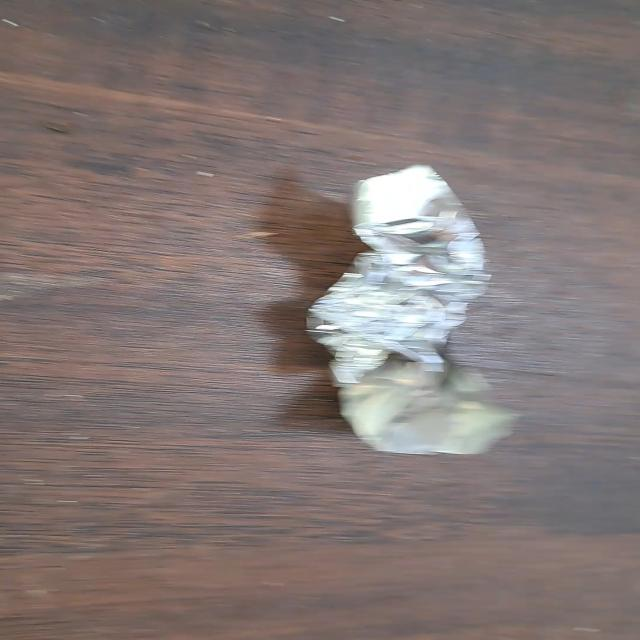Anorganik: (312, 164, 516, 455)
